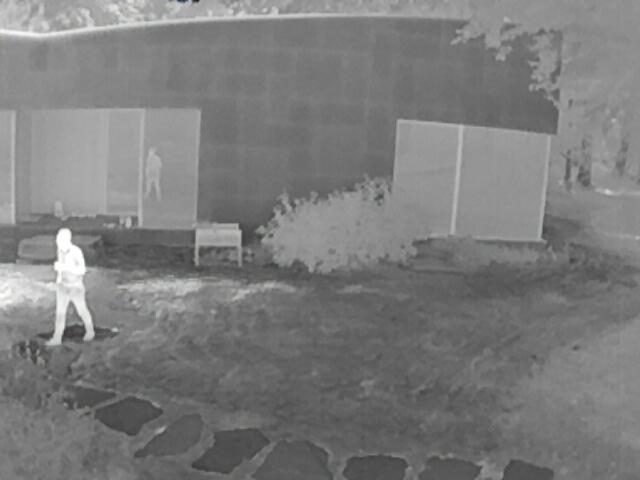person: (44, 226, 97, 348), (144, 146, 164, 202)
